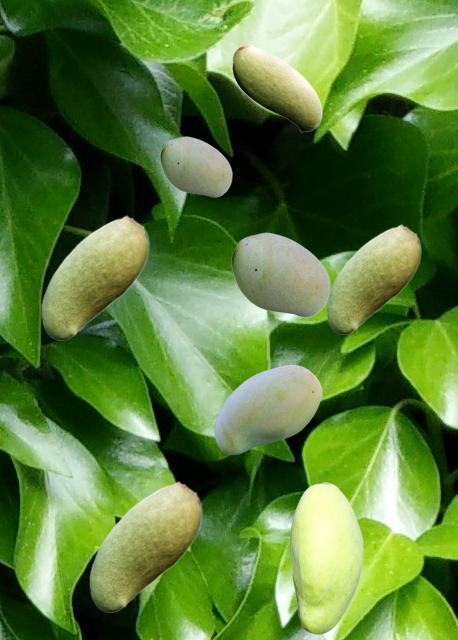green_mango: (89, 481, 201, 611), (41, 215, 148, 339), (289, 482, 362, 633), (326, 224, 420, 333), (214, 365, 321, 453), (231, 232, 329, 316), (232, 43, 321, 131), (160, 136, 231, 196)
